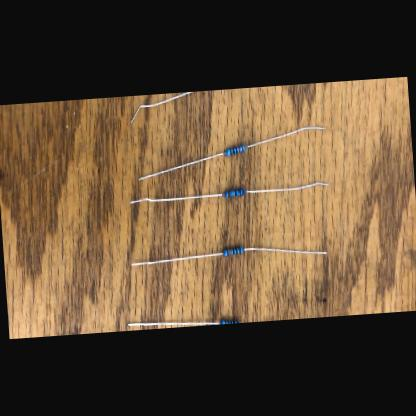resistor: (223, 144, 245, 156), (224, 188, 244, 198), (221, 247, 243, 256), (220, 320, 238, 324)
wire: (136, 153, 226, 181), (128, 92, 196, 124), (244, 126, 325, 149), (242, 243, 326, 261), (130, 253, 222, 266), (128, 318, 220, 330), (245, 182, 327, 195), (130, 193, 223, 202)
